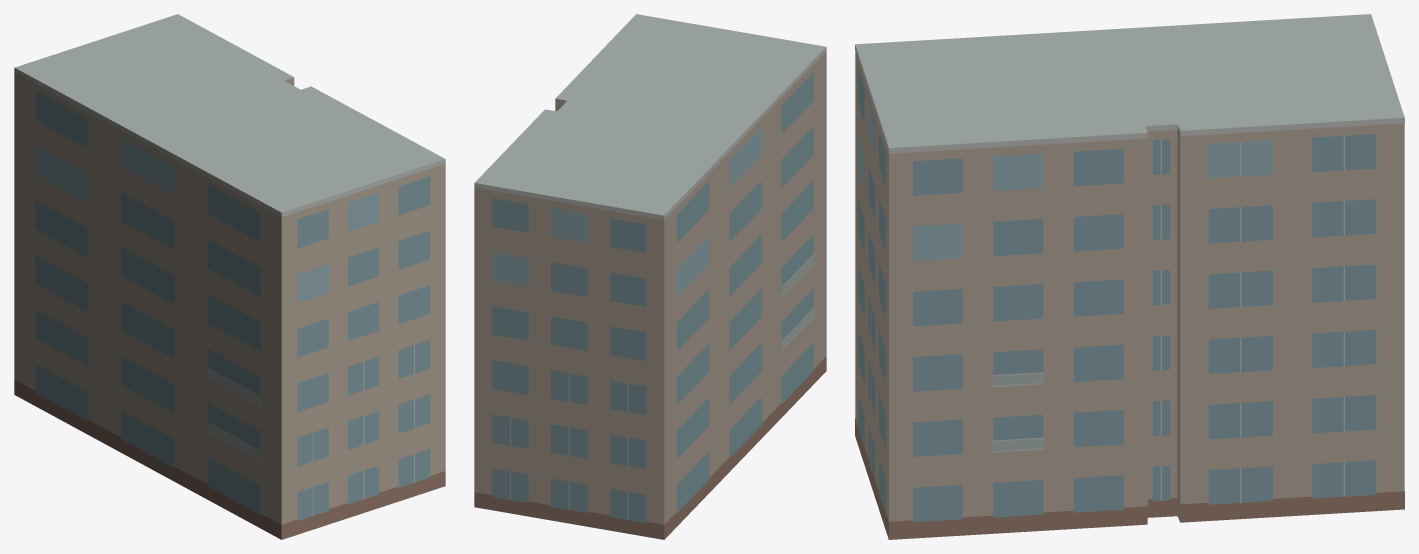
Rendered from survey-upis-32733654.glb.
3 views of the same model, side by side, from view 1: azimuth 30°, elevation 25°; view 2: azimuth 150°, elevation 25°; view 3: azimuth 270°, elevation 25° (orthographic). The views are drawn at different scales.
Visible parts, largest first — view 1: survey-upis-32733654.tmp; view 2: survey-upis-32733654.tmp; view 3: survey-upis-32733654.tmp.
Part boxes in pixels (x1=…): survey-upis-32733654.tmp: x1=14, y1=14, x2=445, y2=539; survey-upis-32733654.tmp: x1=474, y1=14, x2=826, y2=539; survey-upis-32733654.tmp: x1=855, y1=14, x2=1404, y2=539.
Bounding box in the file's own units: 12.72 × 17.3 × 22.01.
